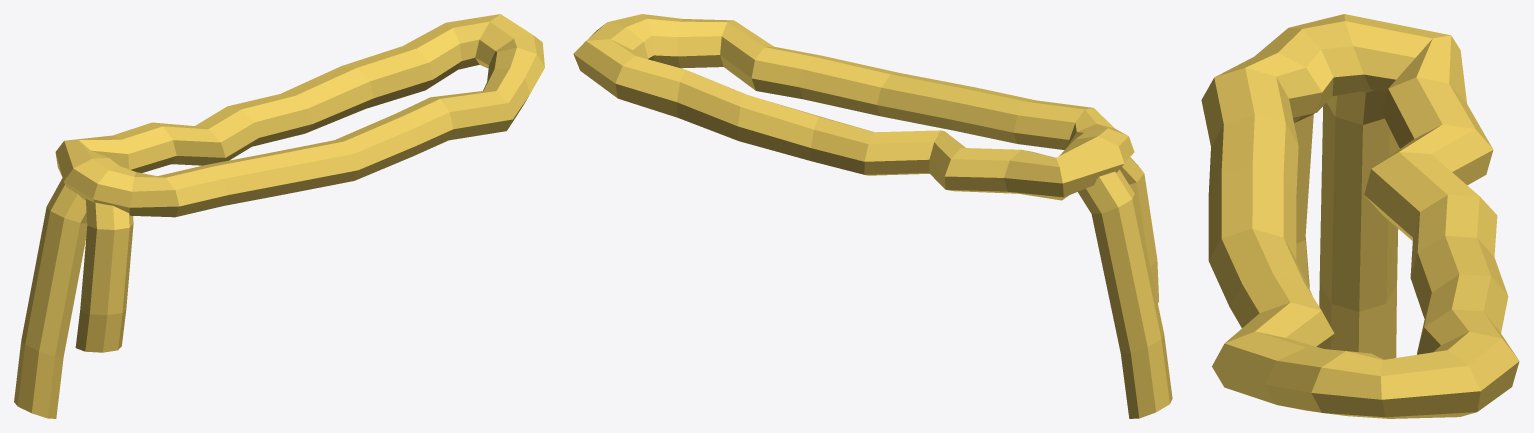
File: Bedroom_2_Rope.fbx
3 views of the same model, side by side, from view 1: azimuth 30°, elevation 25°; view 2: azimuth 150°, elevation 25°; view 3: azimuth 270°, elevation 25° (orthographic). The views are drawn at different scales.
Visible parts, largest first — view 1: Bedroom_2_Rope; view 2: Bedroom_2_Rope; view 3: Bedroom_2_Rope.
Part boxes in pixels (x1,y1,x2,y2): Bedroom_2_Rope: [14, 14, 544, 418]; Bedroom_2_Rope: [573, 14, 1172, 418]; Bedroom_2_Rope: [1201, 14, 1519, 418].
Bounding box in the file's own units: 72.35 × 22.7 × 33.69.
